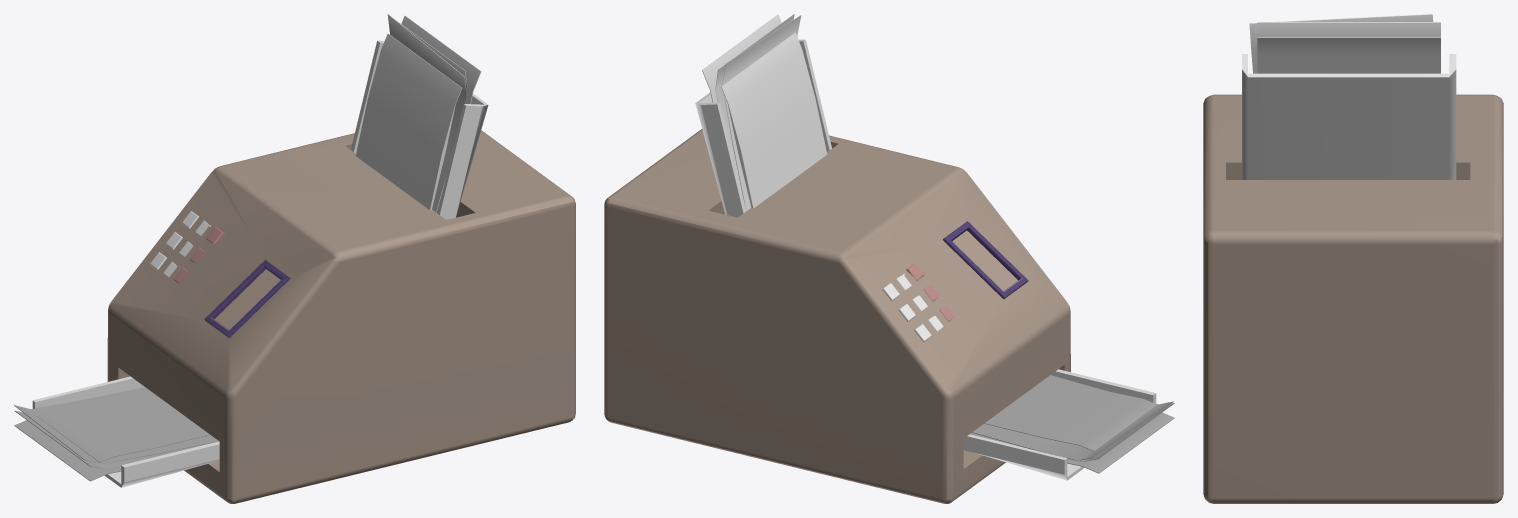
File: printer for reception 1.fbx
3 views of the same model, side by side, from view 1: azimuth 30°, elevation 25°; view 2: azimuth 150°, elevation 25°; view 3: azimuth 270°, elevation 25° (orthographic). The views are drawn at different scales.
Parts seen in each view (by area): view 1: polySurface163, polySurface168, polySurface159, polySurface156, polySurface162, polySurface166, polySurface157, polySurface173, polySurface161, polySurface165; view 2: polySurface163, polySurface168, polySurface159, polySurface162, polySurface156, polySurface157, polySurface166, polySurface173, polySurface161, polySurface160; view 3: polySurface163, polySurface162, polySurface161, polySurface160, polySurface166.
Boxes of the visible parts, bbox=[...] form: polySurface163: bbox=[107, 130, 575, 503]; polySurface168: bbox=[355, 33, 462, 210]; polySurface159: bbox=[36, 388, 209, 462]; polySurface156: bbox=[32, 376, 219, 487]; polySurface162: bbox=[351, 40, 488, 219]; polySurface166: bbox=[387, 14, 466, 212]; polySurface157: bbox=[14, 387, 218, 463]; polySurface173: bbox=[14, 420, 121, 481]; polySurface161: bbox=[401, 15, 481, 103]; polySurface165: bbox=[14, 410, 207, 469]; polySurface163: bbox=[604, 129, 1070, 503]; polySurface168: bbox=[721, 32, 827, 208]; polySurface159: bbox=[984, 377, 1157, 451]; polySurface162: bbox=[695, 39, 831, 217]; polySurface156: bbox=[963, 369, 1156, 480]; polySurface157: bbox=[972, 375, 1173, 460]; polySurface166: bbox=[722, 15, 801, 210]; polySurface173: bbox=[1067, 412, 1174, 473]; polySurface161: bbox=[702, 14, 781, 102]; polySurface160: bbox=[715, 14, 794, 194]; polySurface163: bbox=[1203, 94, 1503, 503]; polySurface162: bbox=[1242, 54, 1456, 179]; polySurface161: bbox=[1257, 37, 1440, 73]; polySurface160: bbox=[1257, 22, 1440, 36]; polySurface166: bbox=[1249, 14, 1433, 73].
Size of the model in its own units: 803 by 589 by 367.
